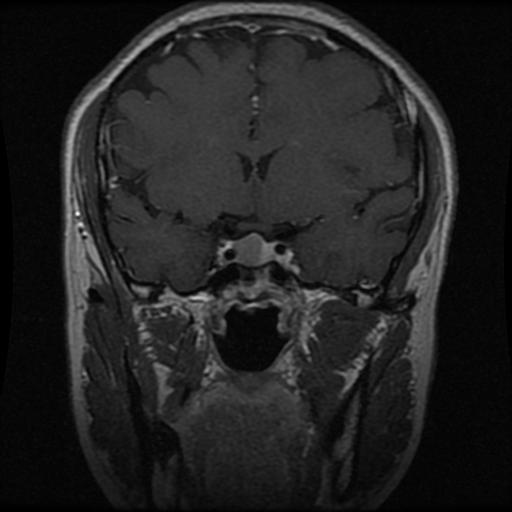Pituirity_tumour: (235, 231, 264, 264)
